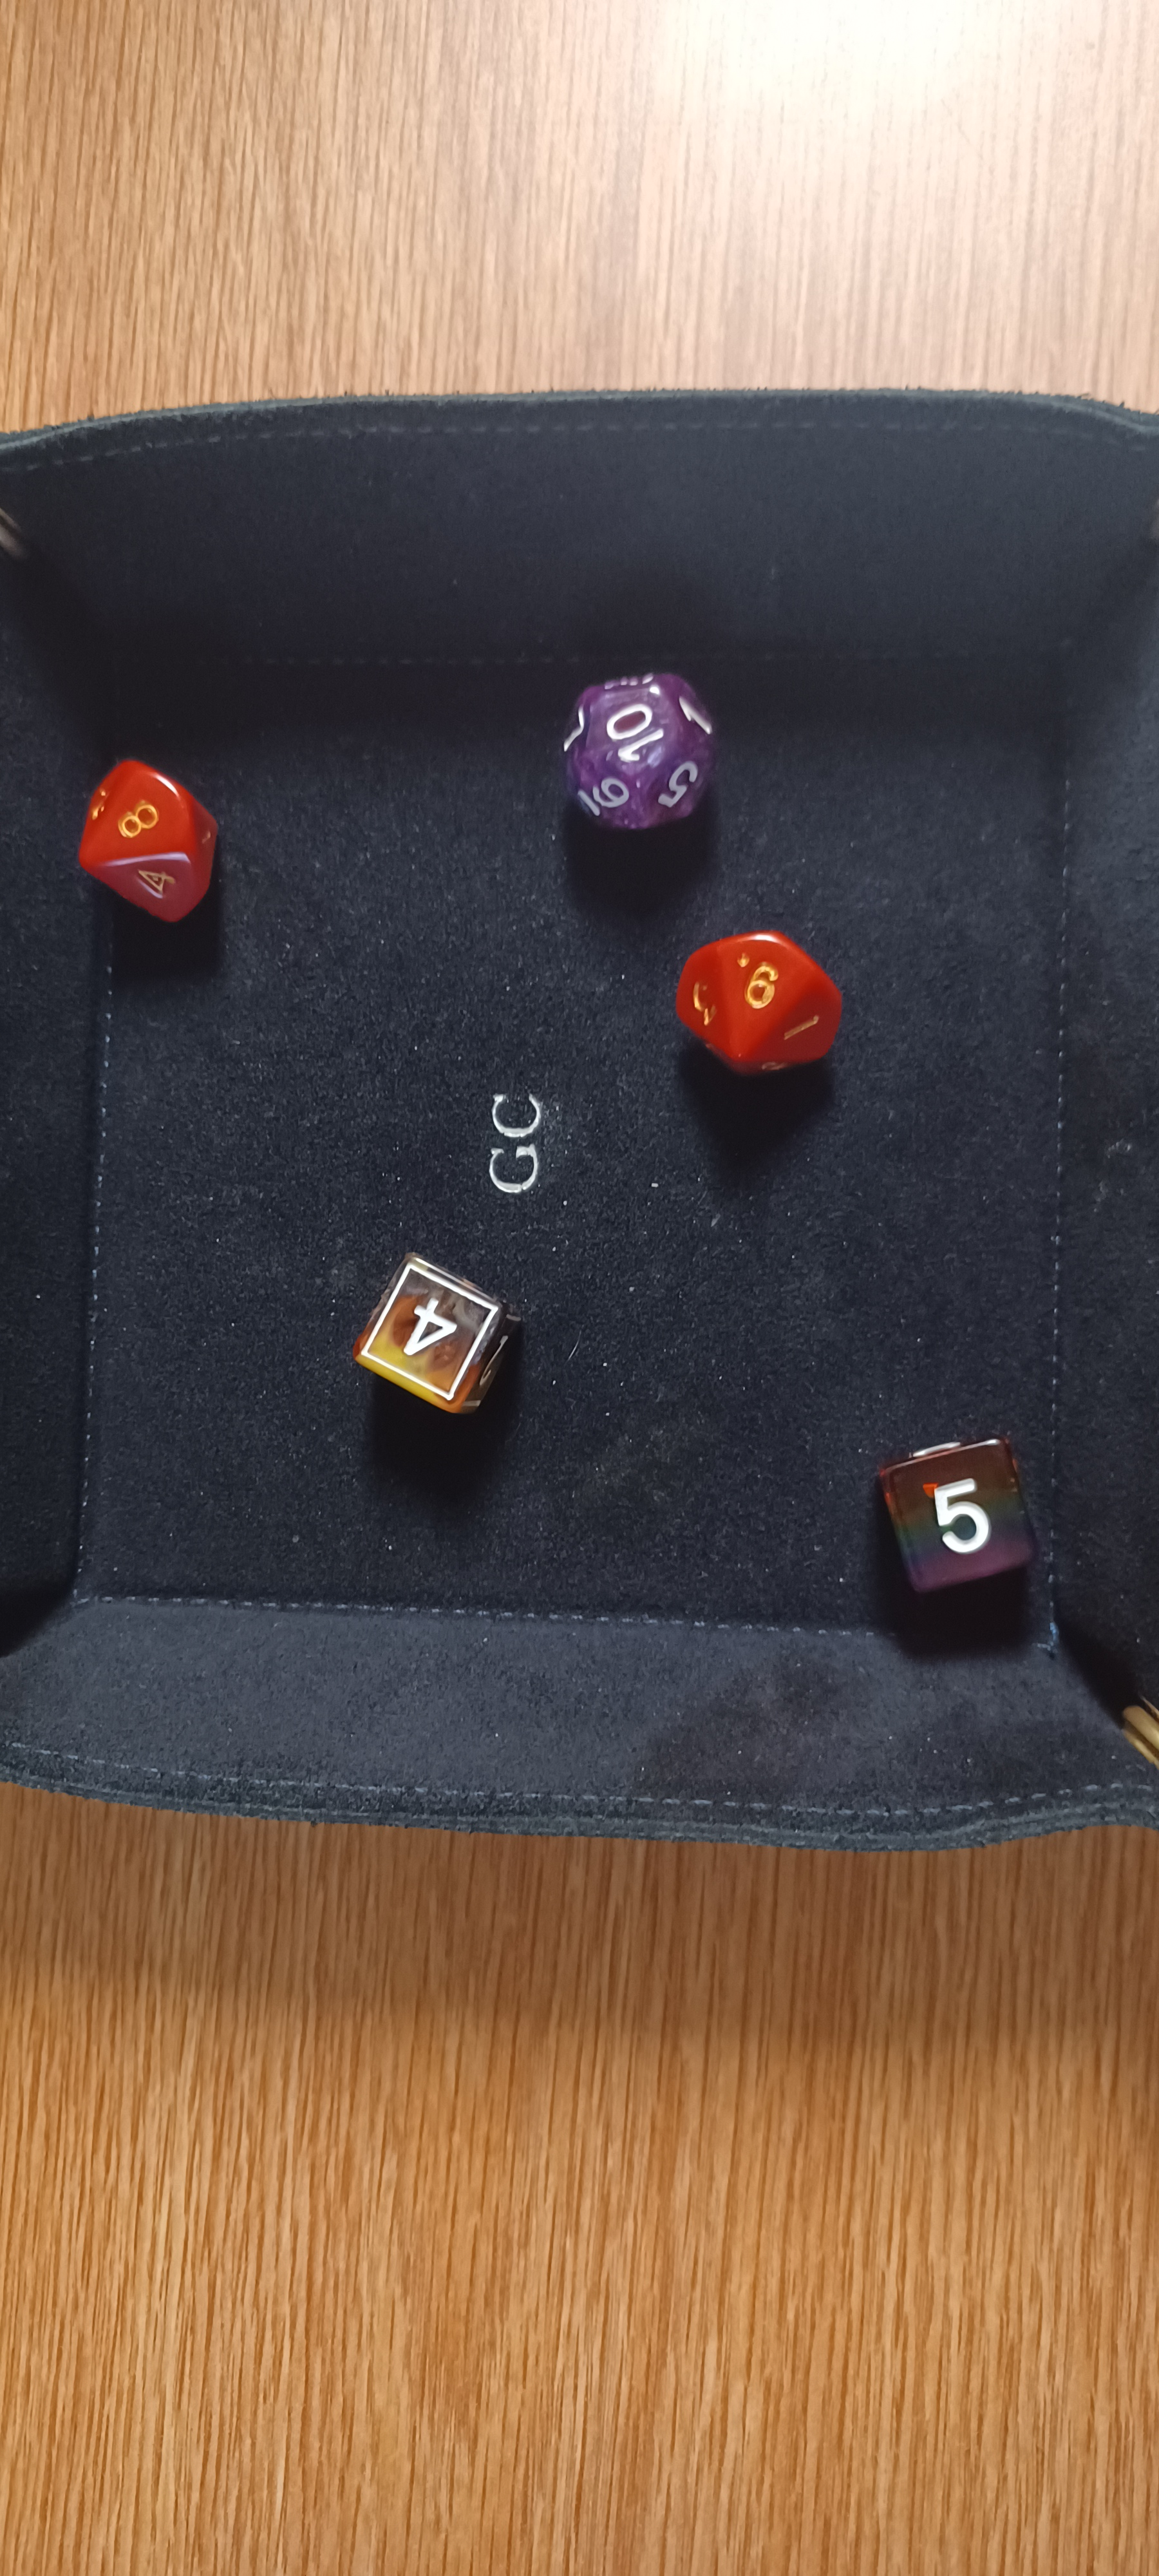eight: (46, 731, 253, 940)
five: (836, 1380, 1062, 1640)
four: (315, 1222, 553, 1444)
nine: (665, 876, 880, 1111)
ten: (525, 624, 749, 853)
